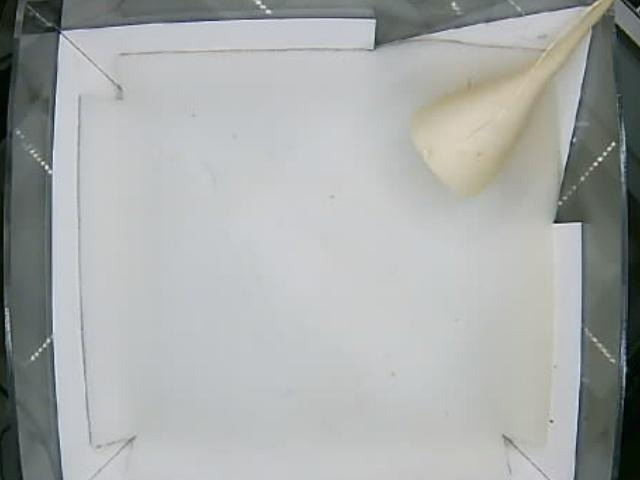Mooli: (406, 66, 545, 200)
